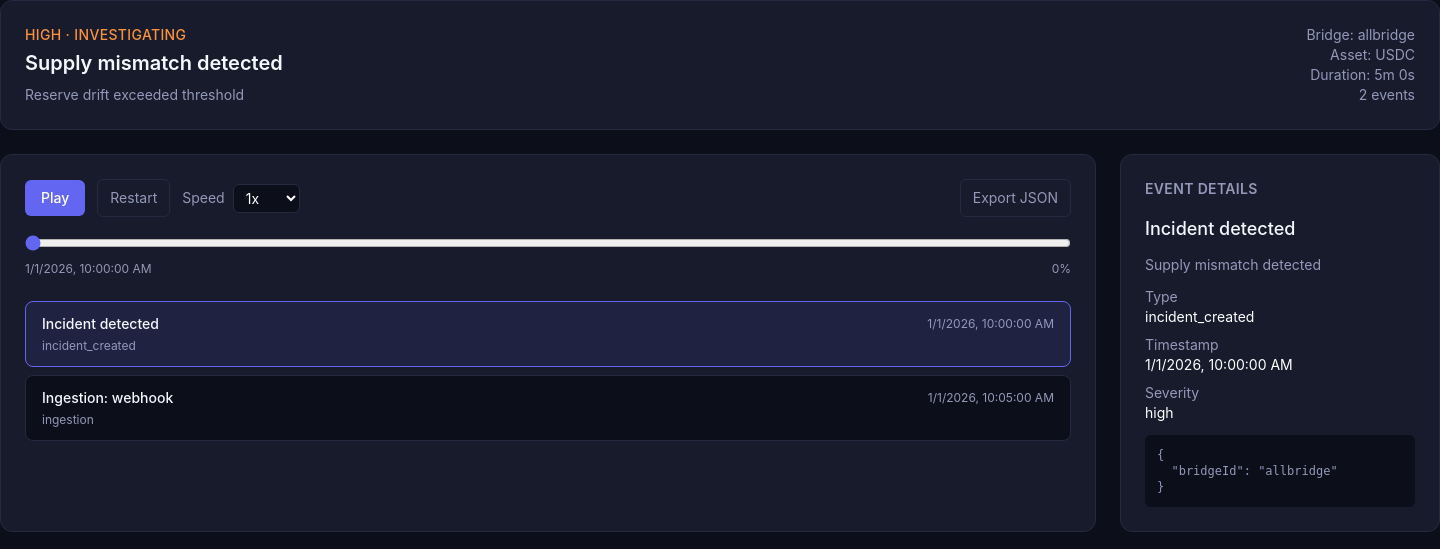
Test: IncidentReplayPlayer › shows event details when an event is selected
What coordinates should you click on to do the following:
click the text "Ingestion: webhook"
I would click on:
 (108, 398)
Its box is [42, 388, 173, 408].
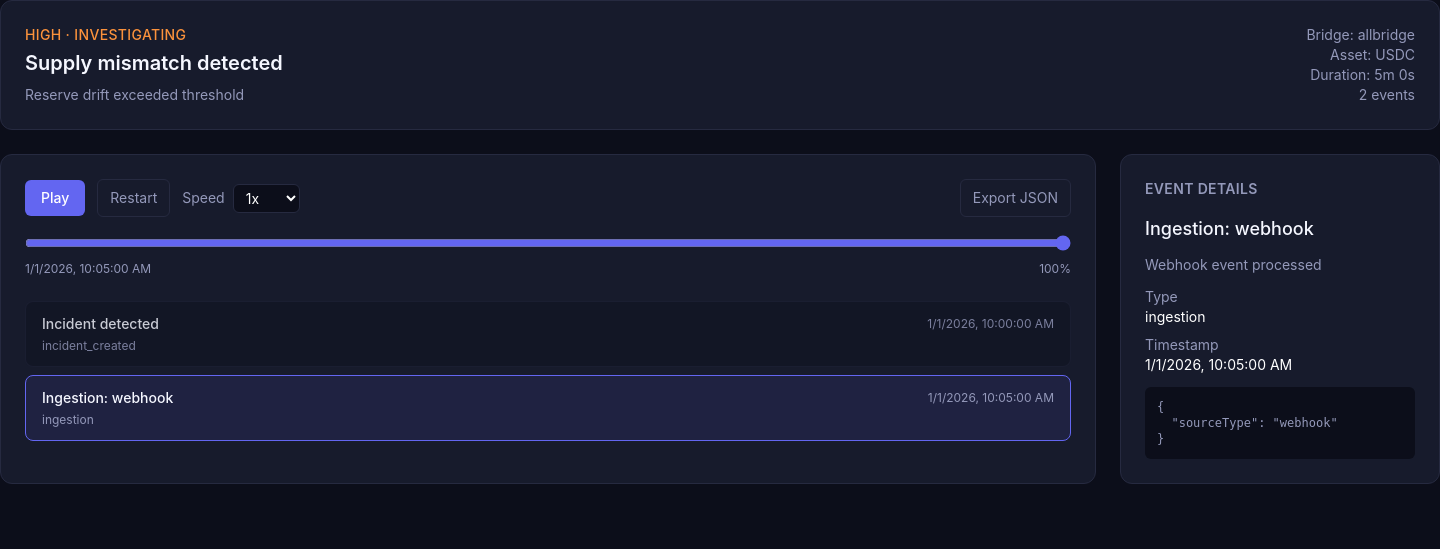
Expected: the heading "Event Details" is shown, [1145, 180, 1258, 197]
Now the text "{ \"sourceType\": \"webhook\" }" is shown, box [1145, 387, 1415, 459]
